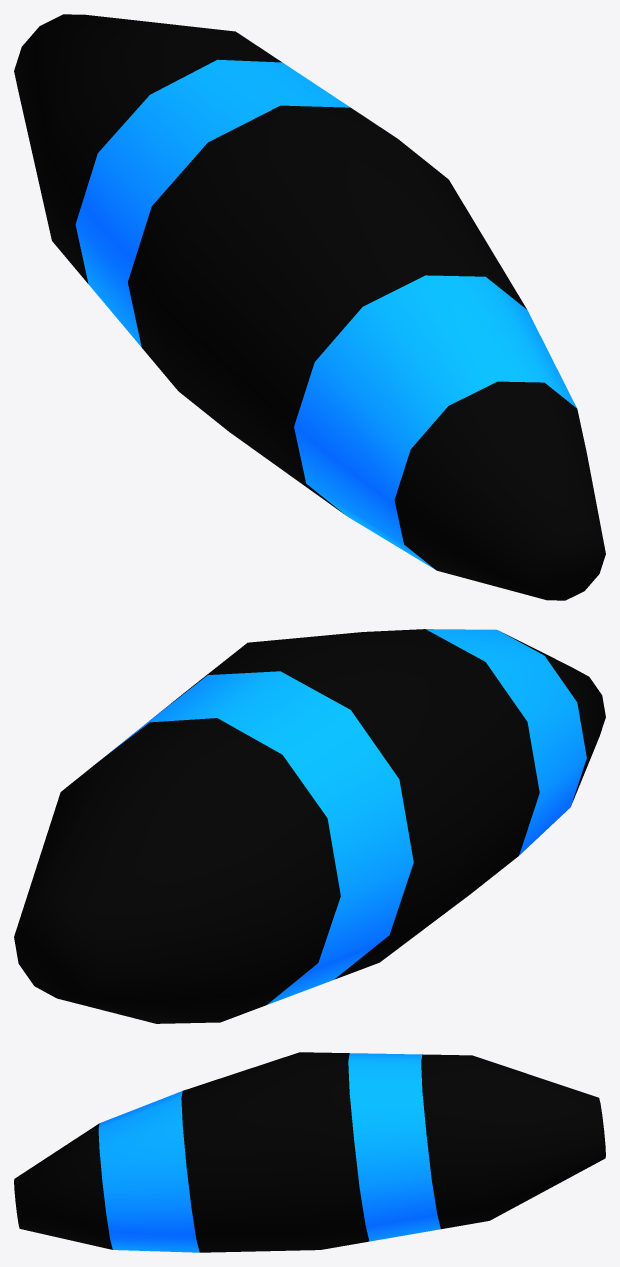
File: water wolf tail.fbx
3 renders of one model, top to bottom at view 1: azimuth 30°, elevation 25°; view 2: azimuth 150°, elevation 25°; view 3: azimuth 270°, elevation 25°, orthographic. The views are drawn at different scales.
Parts seen in each view (by area): view 1: Cube.001; view 2: Cube.001; view 3: Cube.001.
Part boxes in pixels (x1=…): Cube.001: x1=14, y1=14, x2=605, y2=600; Cube.001: x1=14, y1=629, x2=605, y2=1023; Cube.001: x1=14, y1=1052, x2=605, y2=1252.
Bounding box in the file's own units: 40.99 × 41.68 × 122.
